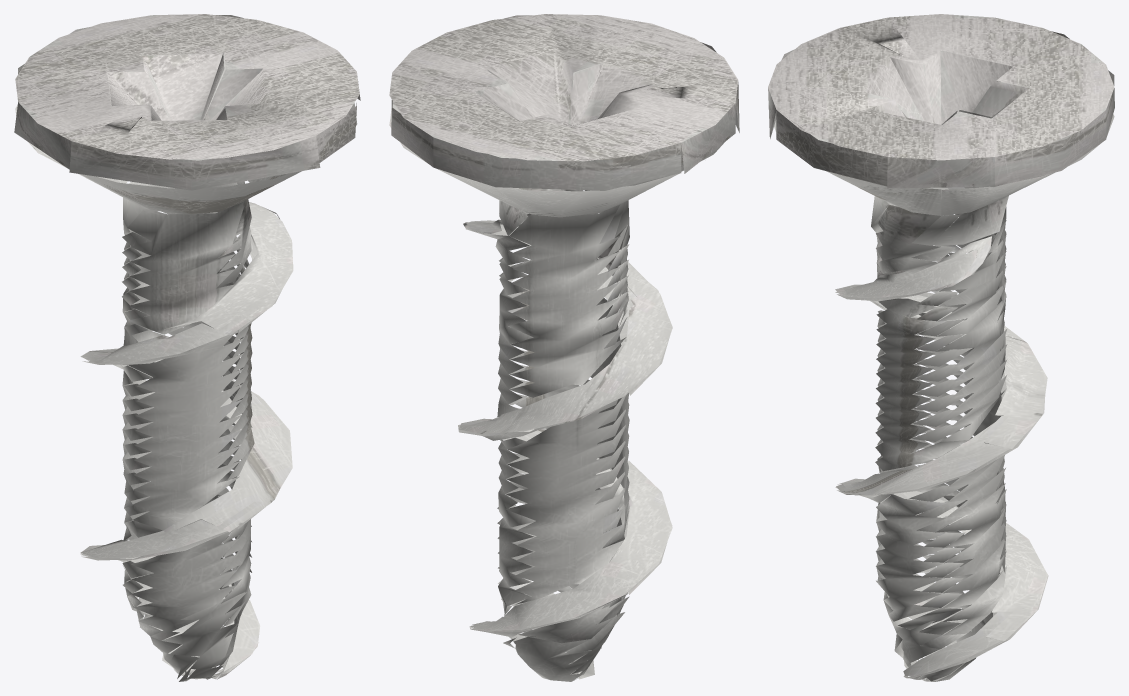
File: screw.fbx
3 renders of one model, left to right at view 1: azimuth 30°, elevation 25°; view 2: azimuth 150°, elevation 25°; view 3: azimuth 270°, elevation 25°, orthographic.
Parts seen in each view (by area): view 1: defaultMaterial.007; view 2: defaultMaterial.007; view 3: defaultMaterial.007.
Part boxes in pixels (x1,y1,x2,y2): defaultMaterial.007: [14, 14, 360, 681]; defaultMaterial.007: [389, 14, 739, 681]; defaultMaterial.007: [768, 14, 1114, 681].
Size of the model in its own units: 1.71 by 3.21 by 1.72.
